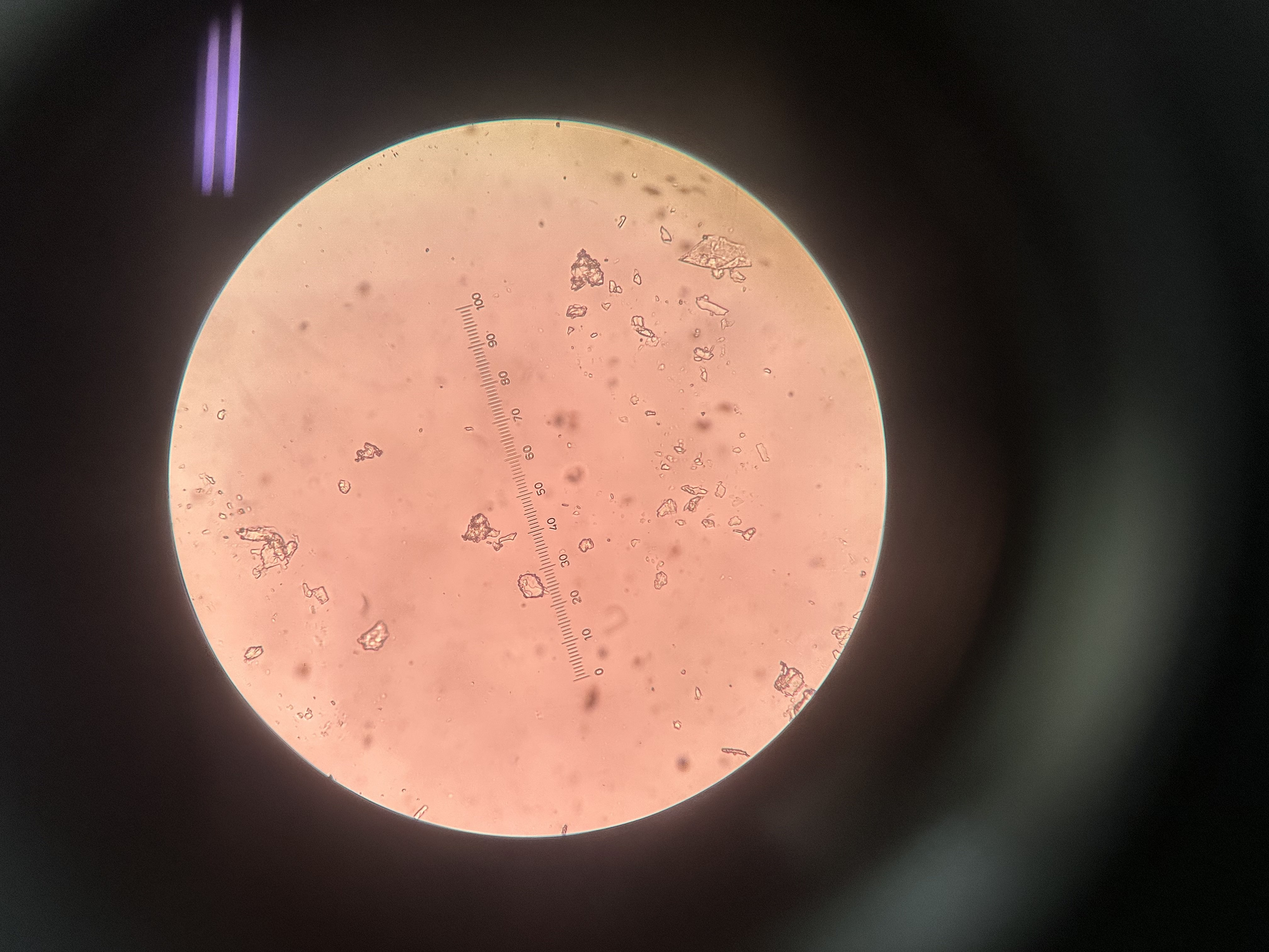microplastic: (232, 516, 307, 577), (678, 234, 754, 284), (566, 247, 606, 290), (355, 619, 393, 649), (629, 314, 663, 347), (463, 513, 501, 542), (775, 661, 804, 696), (691, 293, 730, 316), (515, 572, 547, 598), (726, 515, 758, 541), (650, 557, 671, 591), (352, 441, 384, 463), (301, 583, 331, 605), (491, 531, 521, 553), (832, 624, 852, 657), (718, 742, 751, 761), (792, 688, 815, 715), (565, 301, 590, 321), (754, 439, 773, 464), (691, 343, 715, 362), (658, 498, 680, 516), (247, 643, 267, 661), (697, 364, 711, 387), (655, 225, 672, 243), (688, 685, 708, 700), (578, 536, 596, 552), (615, 213, 631, 229), (337, 479, 352, 495), (631, 270, 644, 285), (612, 280, 622, 294), (216, 408, 227, 419), (852, 609, 863, 619), (601, 298, 612, 308)
